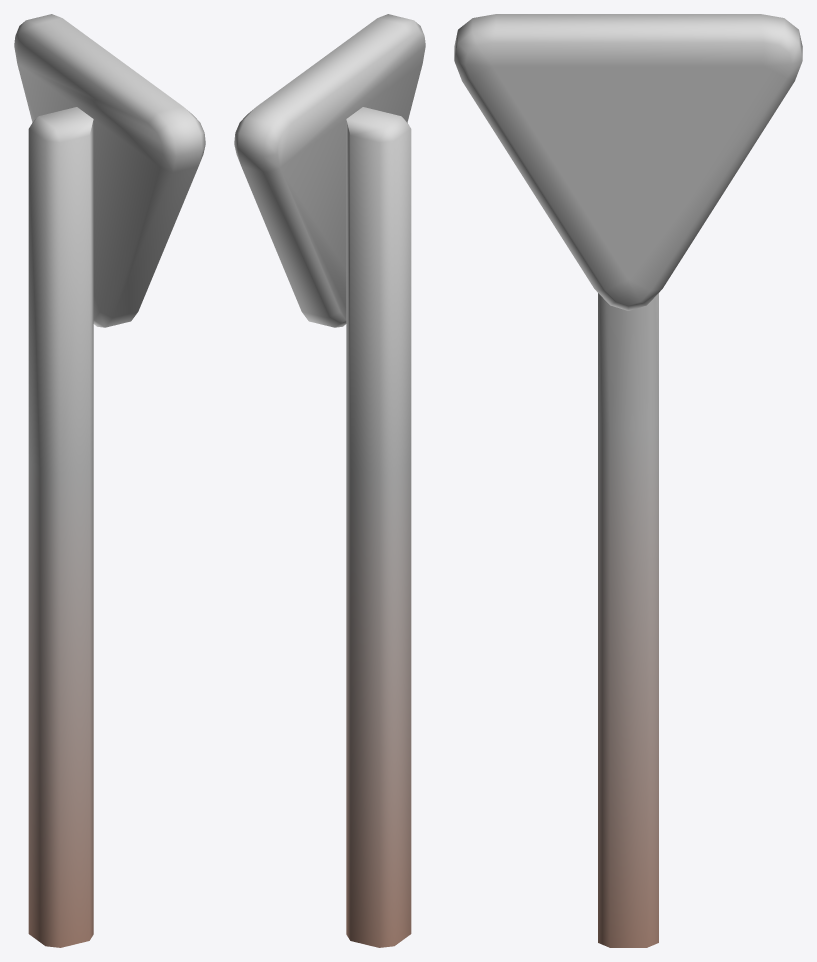
File: NF_Env_Road Sign 01.fbx
The picture shows the model from 3 angles, left to right: view 1: azimuth 30°, elevation 25°; view 2: azimuth 150°, elevation 25°; view 3: azimuth 270°, elevation 25°; orthographic projection. The views are drawn at different scales.
Parts seen in each view (by area): view 1: Sign 1; view 2: Sign 1; view 3: Sign 1.
Boxes of the visible parts, x1,y1,x2,y2 form: Sign 1: (14, 14, 205, 947); Sign 1: (234, 14, 425, 947); Sign 1: (454, 14, 802, 947).
Size of the model in its own units: 0.3914 by 3.4 by 1.14.
